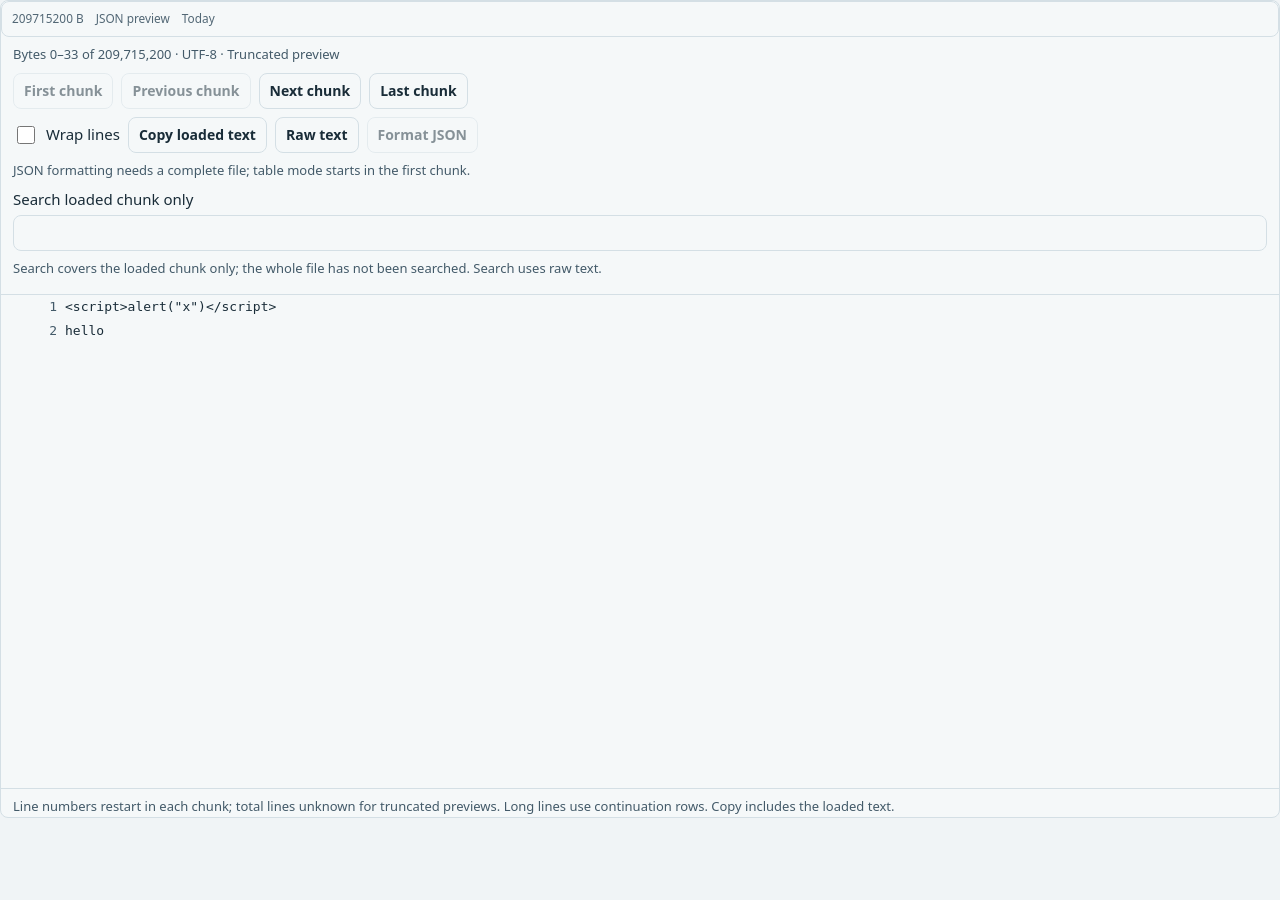
Test: escapes content and clearly scopes search to the loaded chunk
This screenshot has width=1280, height=900.
Expected: the text "Bytes 0–33 of 209,715,200 · UTF-8 · Truncated preview" is shown, [13,45,340,63]
Expected: the text "total lines unknown" is shown, [13,797,894,815]
Step 1. Type "hello" into the search field → (640, 232), box [13,214,1267,250]
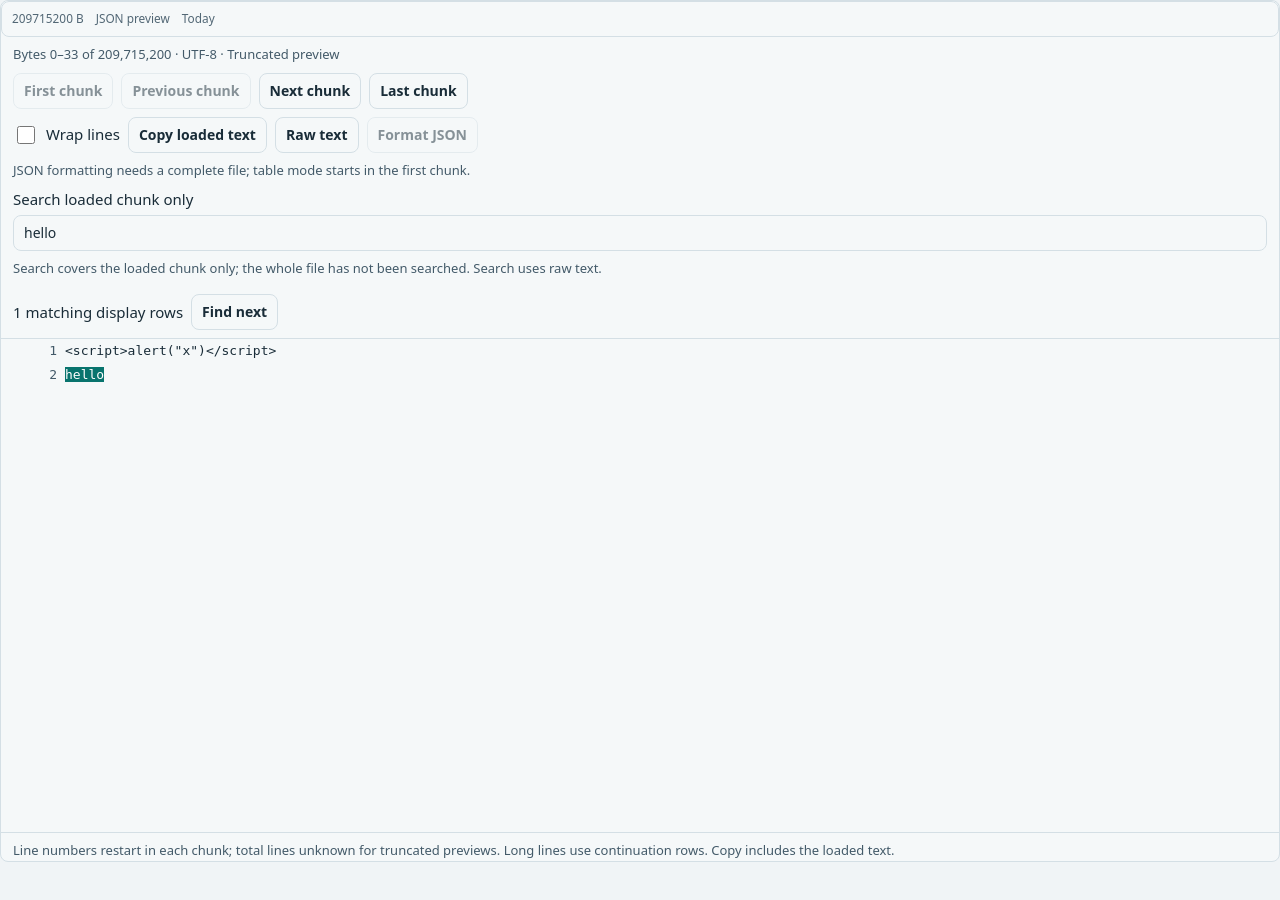
Expected: the text "the whole file has not been searched" is shown, [13,258,470,276]
Expected: the text "1 matching display rows" is shown, [13,301,183,323]
